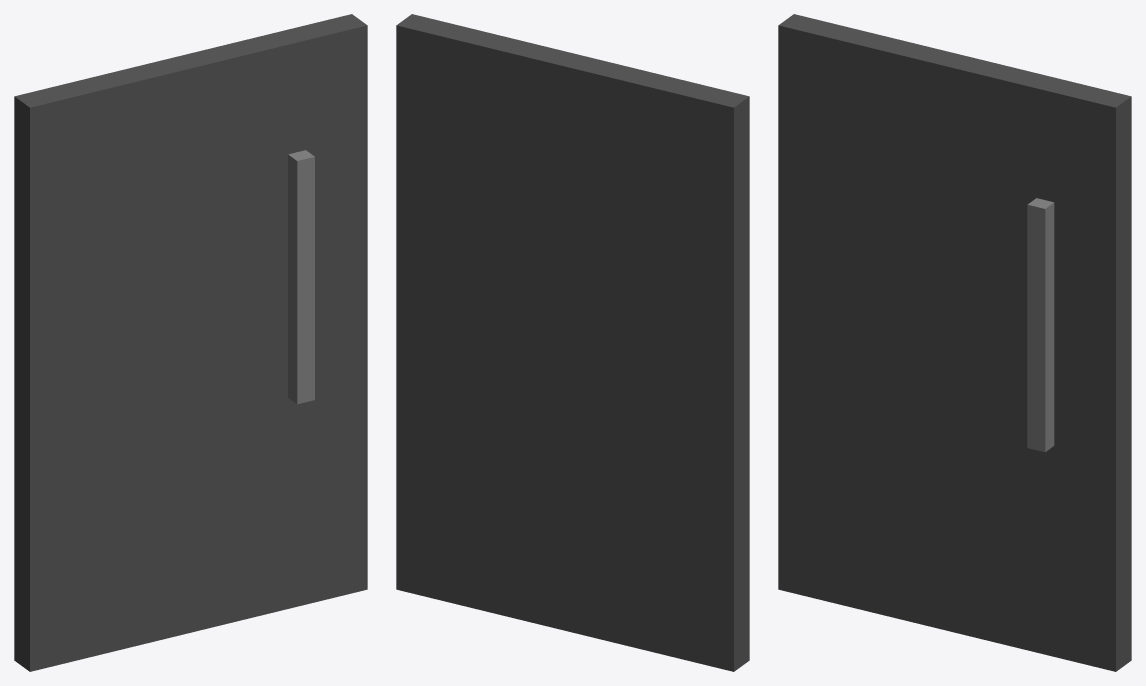
File: Office_Counter_Door.fbx
3 views of the same model, side by side, from view 1: azimuth 30°, elevation 25°; view 2: azimuth 150°, elevation 25°; view 3: azimuth 330°, elevation 25° (orthographic).
Parts seen in each view (by area): view 1: Office_Counter_Door; view 2: Office_Counter_Door; view 3: Office_Counter_Door.
Part boxes in pixels (x1,y1,x2,y2): Office_Counter_Door: [14, 14, 367, 671]; Office_Counter_Door: [396, 14, 749, 671]; Office_Counter_Door: [778, 14, 1131, 671].
Bounding box in the file's own units: 52.02 × 83.09 × 6.58.
